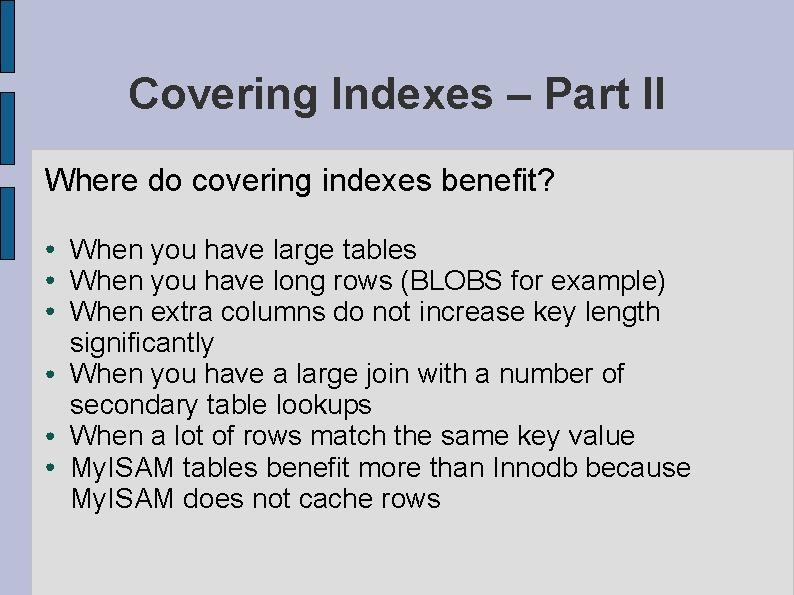paragraph: (42, 226, 743, 518)
subtitle: (36, 158, 564, 204)
title: (118, 49, 674, 129)
